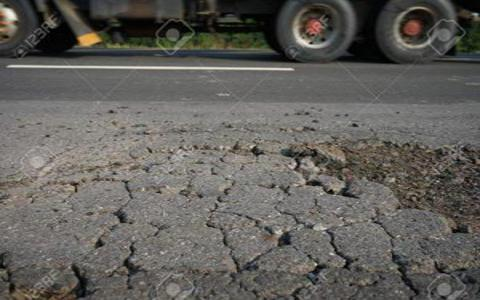patchy roads: (3, 95, 478, 295)
